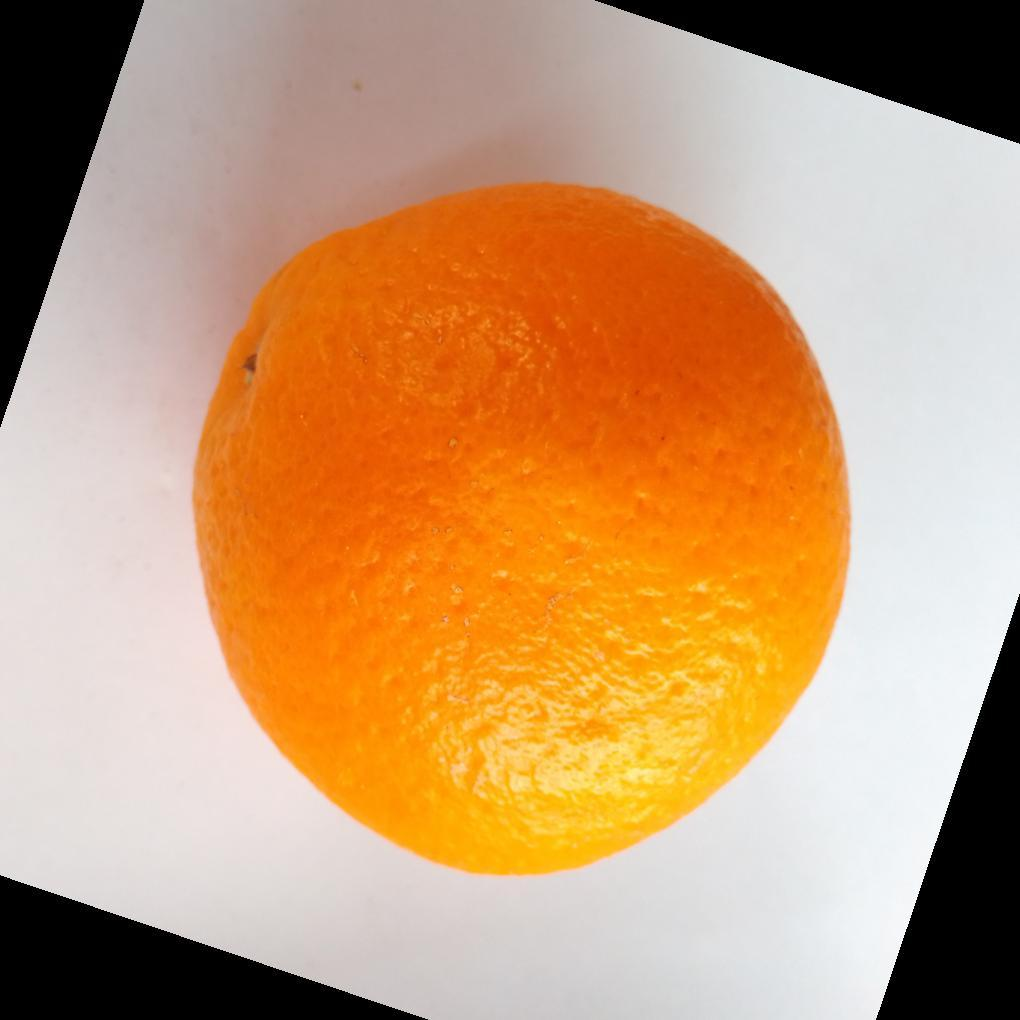FreshGuava: (187, 182, 856, 883)
